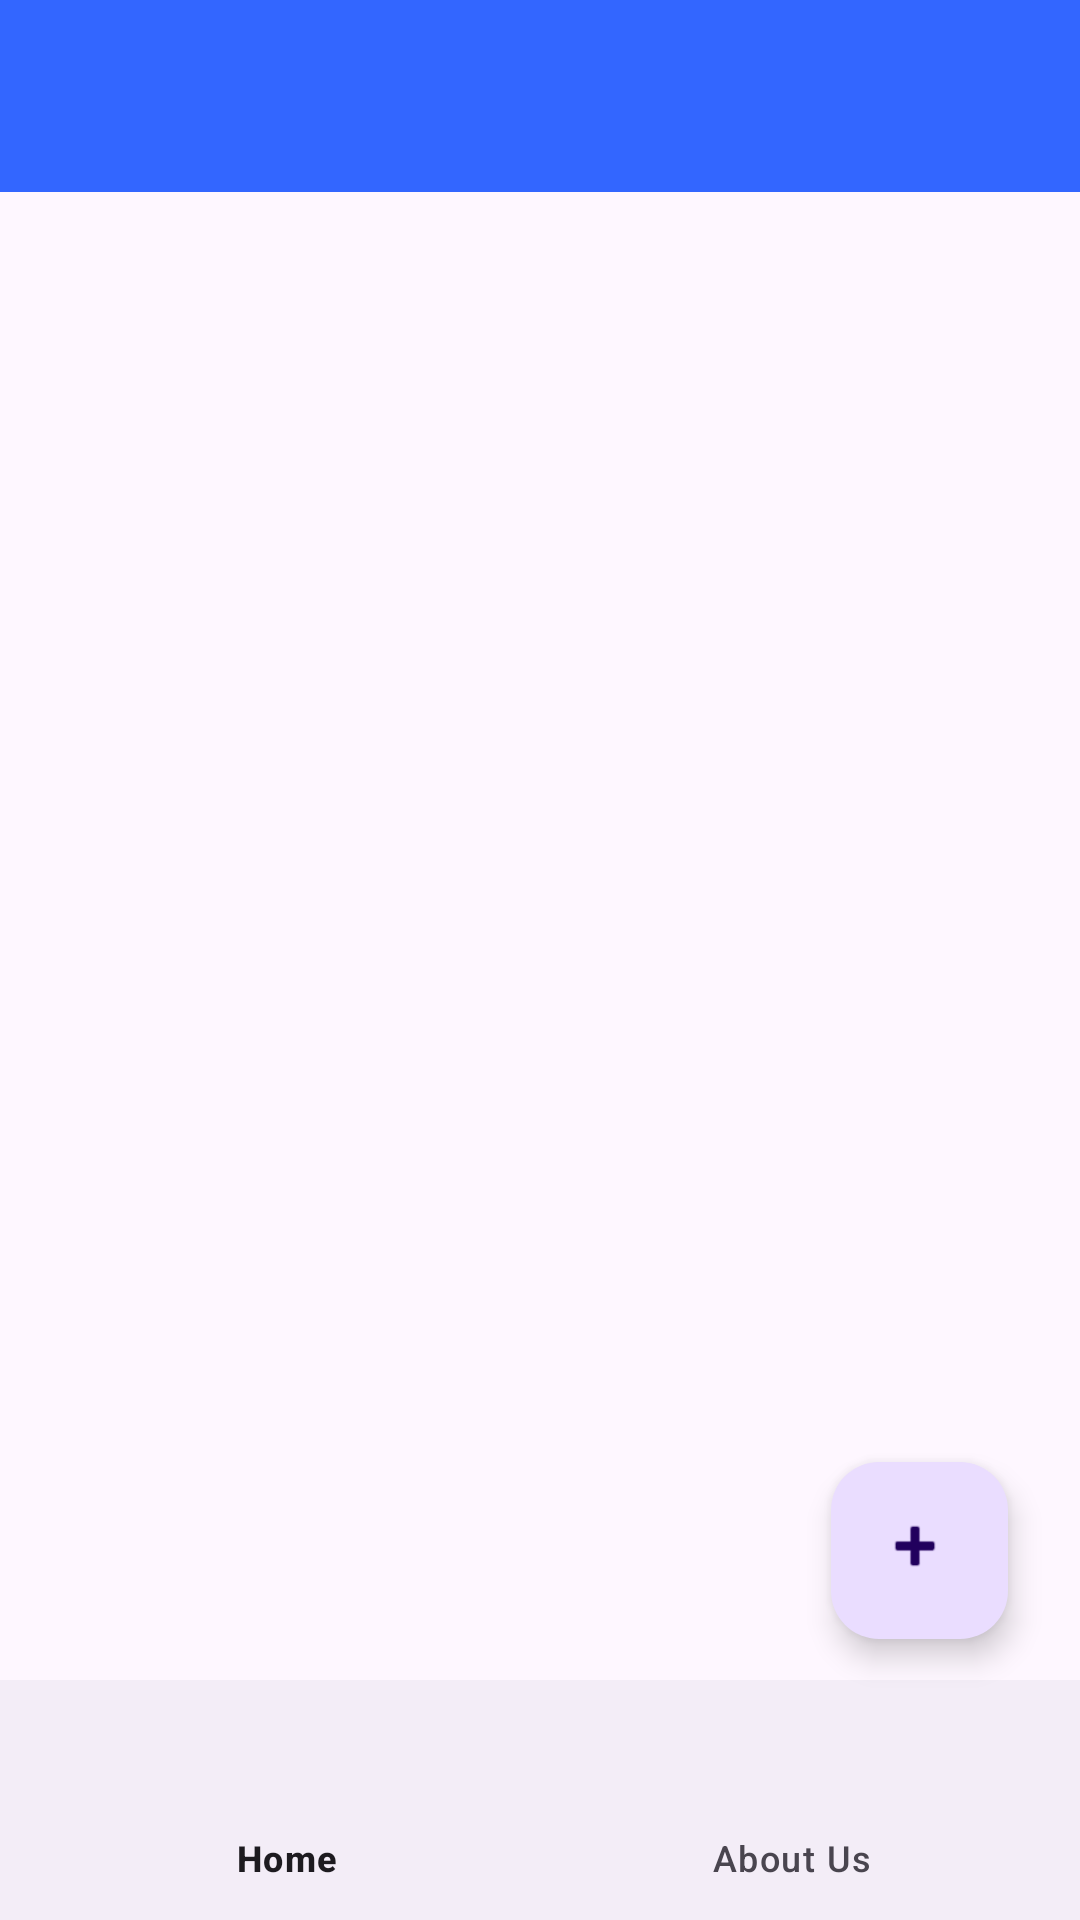

Where icons sit on this 1080 x 1920 app screen, as bbox(x1, y1, x2, y2):
add: bbox(831, 1462, 1008, 1639)
